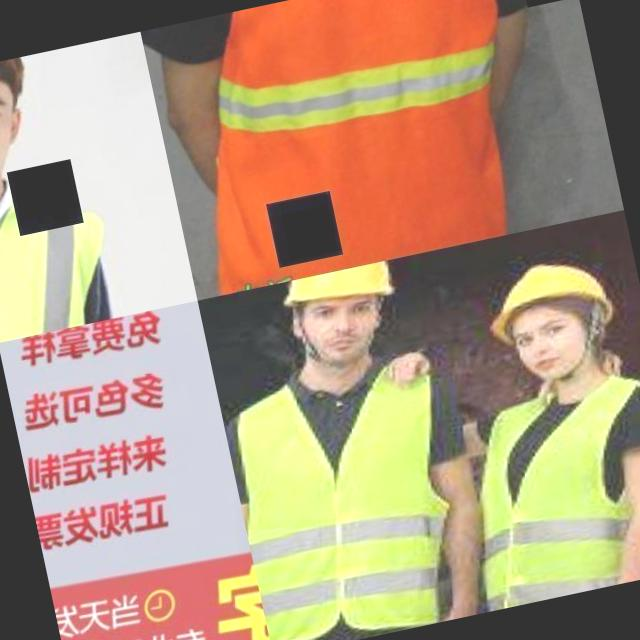vest: (183, 0, 587, 291), (215, 338, 492, 640), (443, 371, 640, 612), (0, 164, 115, 343)
